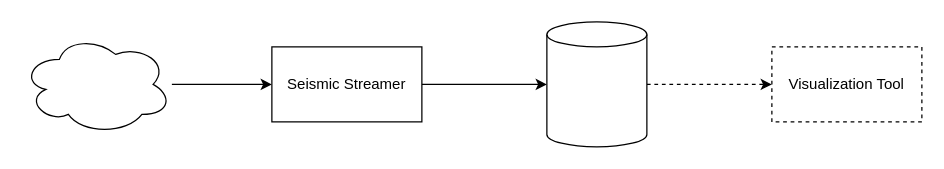
Image size: 944x169. Some labels were removed from this diagram. Each missing label, with the box of its shape:
InfluxDB: (546, 21, 647, 147)
SeedLink Server: (21, 33, 172, 134)
